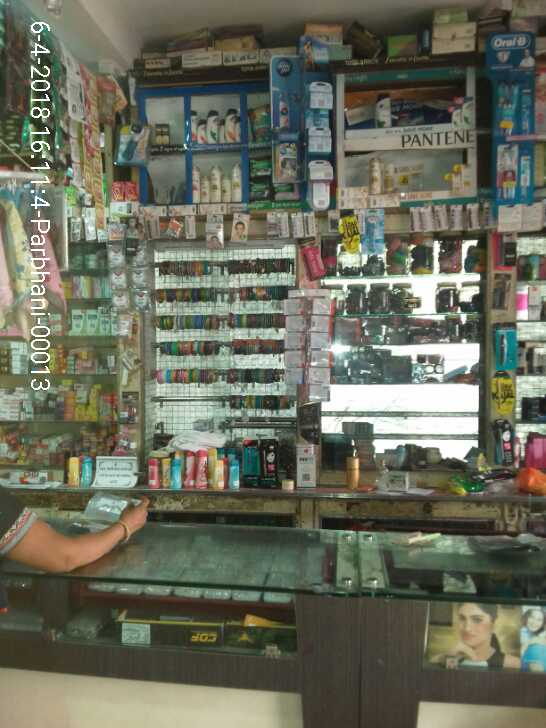venus: (361, 208, 383, 253)
